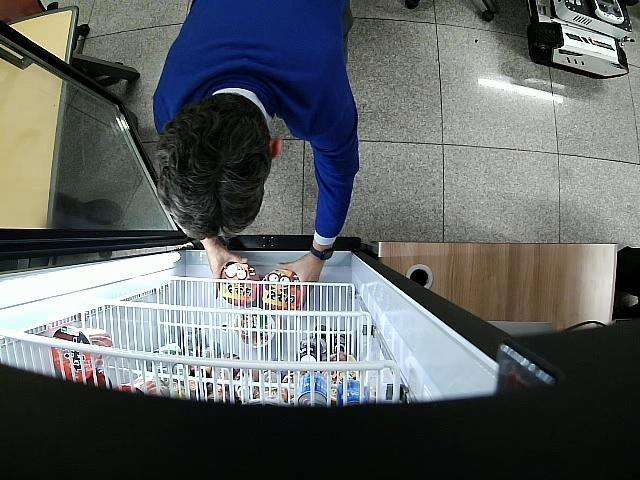05_nuguri_L: (223, 262, 260, 306), (261, 270, 301, 310)
